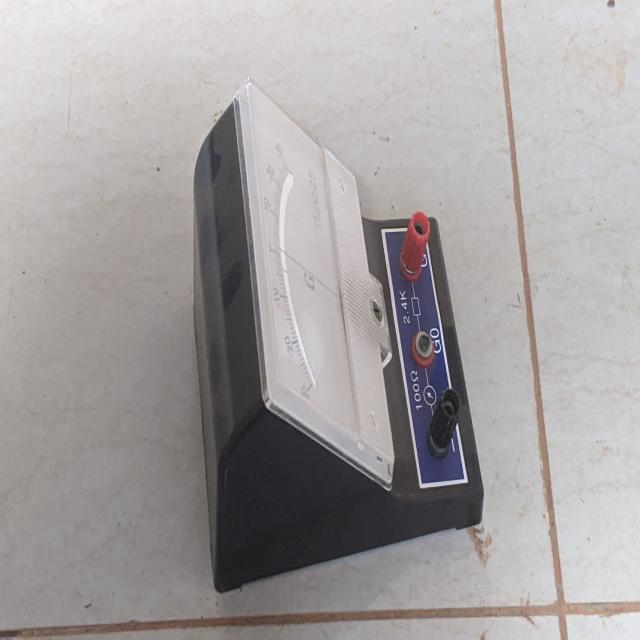Galvanometer: (179, 80, 499, 614)
